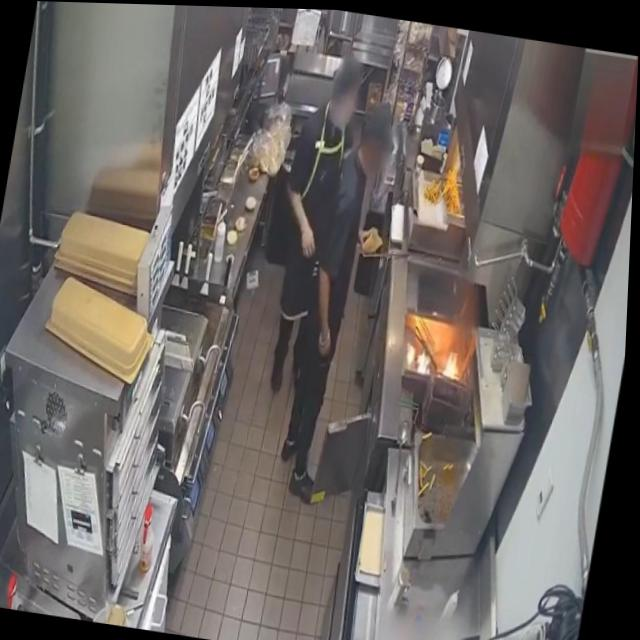fire: (410, 333, 473, 382)
